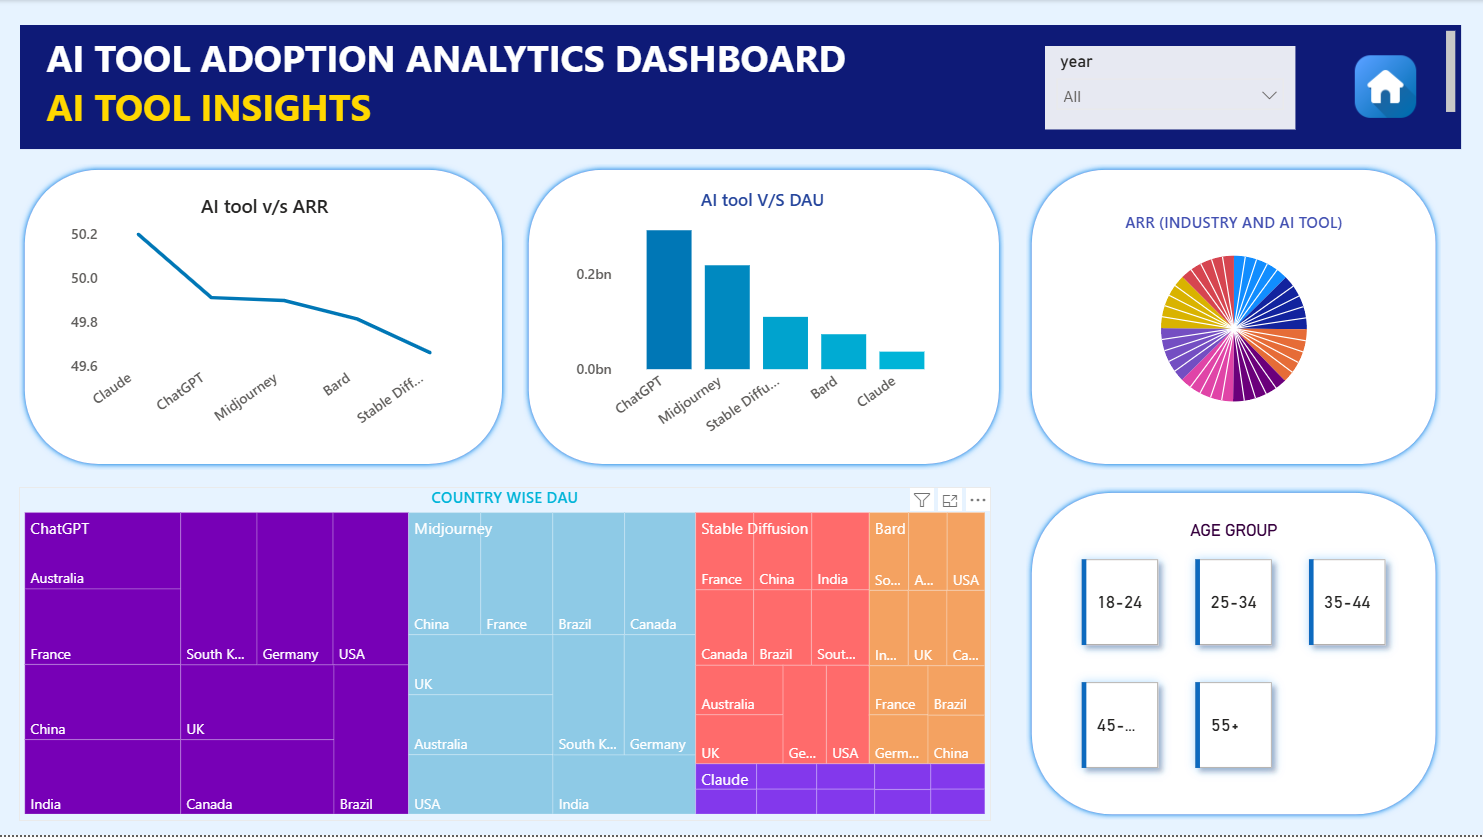

This screenshot's page, from the dashboard's own definition file:
{"tool":"powerbi","page":{"name":"AI TOOL INSIGHTS","canvas":[1280,720],"ordinal":2},"visuals":[{"type":"textbox","box":[17.8,22,1243.2,107],"z":0},{"type":"shape","box":[17.4,141.8,421.7,263.7],"z":1000},{"type":"shape","box":[451.6,141.8,415.5,263.7],"z":2000},{"type":"shape","box":[885.7,141.8,358.3,263.7],"z":3000},{"type":"shape","box":[885.7,420.5,358.3,287.4],"z":4000},{"type":"slicer","fields":{"Values":["AI.year"]},"box":[901.9,39.8,216.4,72.1],"z":5000},{"type":"lineChart","title":"AI tool v/s ARR","fields":{"Category":["AI.ai_tool"],"Y":["Avg(AI.adoption_rate)"]},"box":[56,166.7,345.8,215.2],"z":6000},{"type":"columnChart","title":"AI tool V/S DAU","fields":{"Category":["AI.ai_tool"],"Y":["Sum(AI.daily_active_users)"]},"box":[492.6,161.7,332.1,225.2],"z":7000},{"type":"treemap","title":"COUNTRY WISE DAU","fields":{"Group":["AI.ai_tool"],"Details":["AI.country"],"Values":["Sum(AI.daily_active_users)"]},"box":[17.4,420.5,838.4,287.4],"z":8000},{"type":"pieChart","title":"ARR (INDUSTRY AND AI TOOL)","fields":{"Category":["AI.industry"],"Y":["Avg(AI.adoption_rate)"],"Series":["AI.ai_tool"]},"box":[901.9,182.9,325.9,184.1],"z":9000},{"type":"advancedSlicerVisual","title":"AGE GROUP","fields":{"Values":["AI.age_group"]},"box":[916.8,449.1,296.1,230.1],"z":10000},{"type":"image","box":[1164.3,39.8,63.4,69.7],"z":10001}]}

Visuals, with their boxes in screenshot pixels (x1, y1, x2, y2), scaled from the page's 1280x720 canvas onto the 1483x839 screenshot:
textbox: <box>21,26,1461,150</box>
shape: <box>20,165,509,473</box>
shape: <box>523,165,1005,473</box>
shape: <box>1026,165,1441,473</box>
shape: <box>1026,490,1441,825</box>
slicer - AI.year: <box>1045,46,1296,130</box>
"AI tool v/s ARR" lineChart: <box>65,194,466,445</box>
"AI tool V/S DAU" columnChart: <box>571,188,955,451</box>
"COUNTRY WISE DAU" treemap: <box>20,490,992,825</box>
"ARR (INDUSTRY AND AI TOOL)" pieChart: <box>1045,213,1423,428</box>
"AGE GROUP" advancedSlicerVisual: <box>1062,523,1405,791</box>
image: <box>1349,46,1422,128</box>
